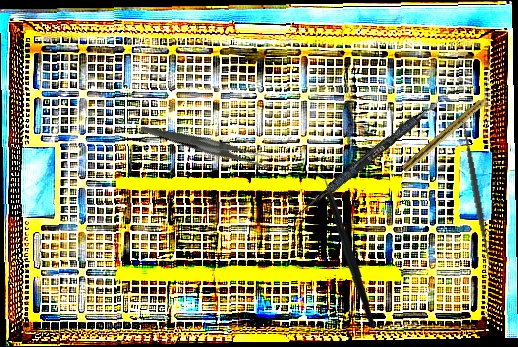Chopper: (305, 169, 382, 327)
Dressing Forceps: (140, 89, 274, 199)
Handpiece: (401, 89, 497, 175)
Spatula Surgical: (293, 81, 459, 223), (454, 114, 497, 268)
